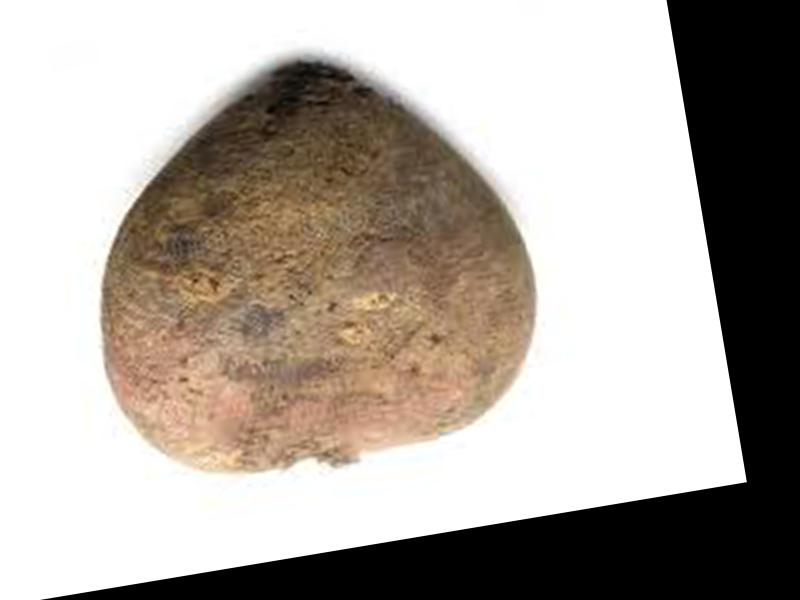Beet: (60, 31, 561, 497)
